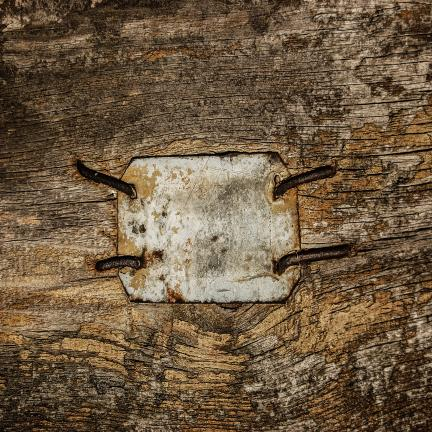karat: (277, 245, 352, 275)
